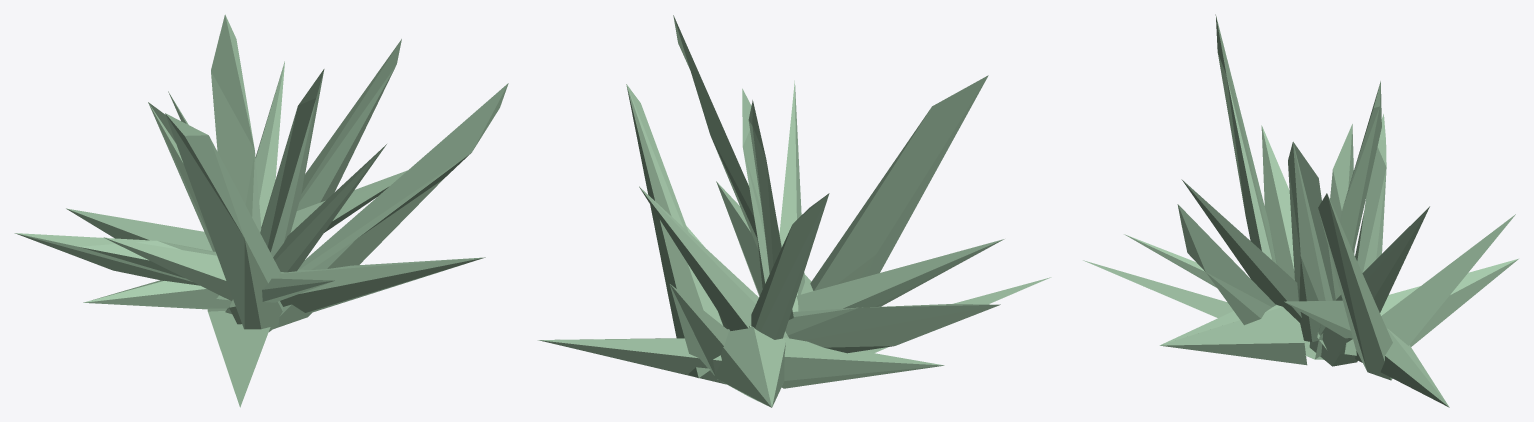
File: Grass2.fbx
The picture shows the model from 3 angles, left to right: view 1: azimuth 30°, elevation 25°; view 2: azimuth 150°, elevation 25°; view 3: azimuth 270°, elevation 25°; orthographic projection. The views are drawn at different scales.
Visible parts, largest first — view 1: polySurface3; view 2: polySurface3; view 3: polySurface3.
Part boxes in pixels (left/top/right/bottom): polySurface3: left=14, top=14, right=508, bottom=407; polySurface3: left=538, top=15, right=1051, bottom=407; polySurface3: left=1083, top=14, right=1518, bottom=407.
Size of the model in its own units: 2.68 by 1.85 by 2.55.
